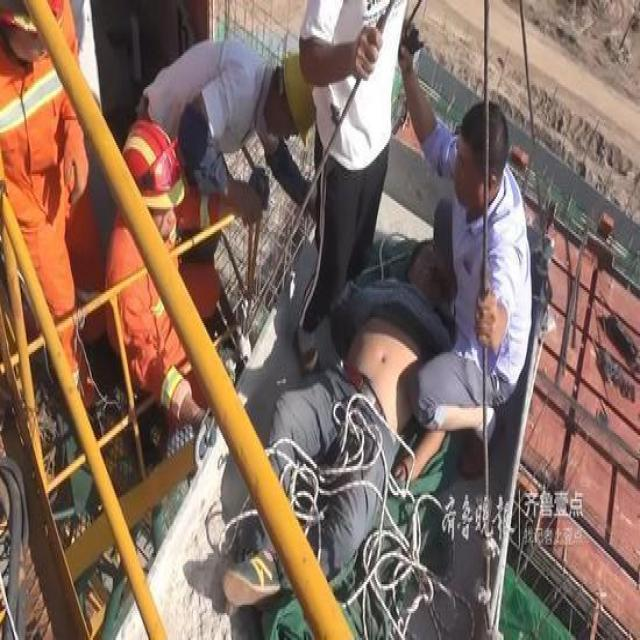fall: (198, 205, 444, 640)
